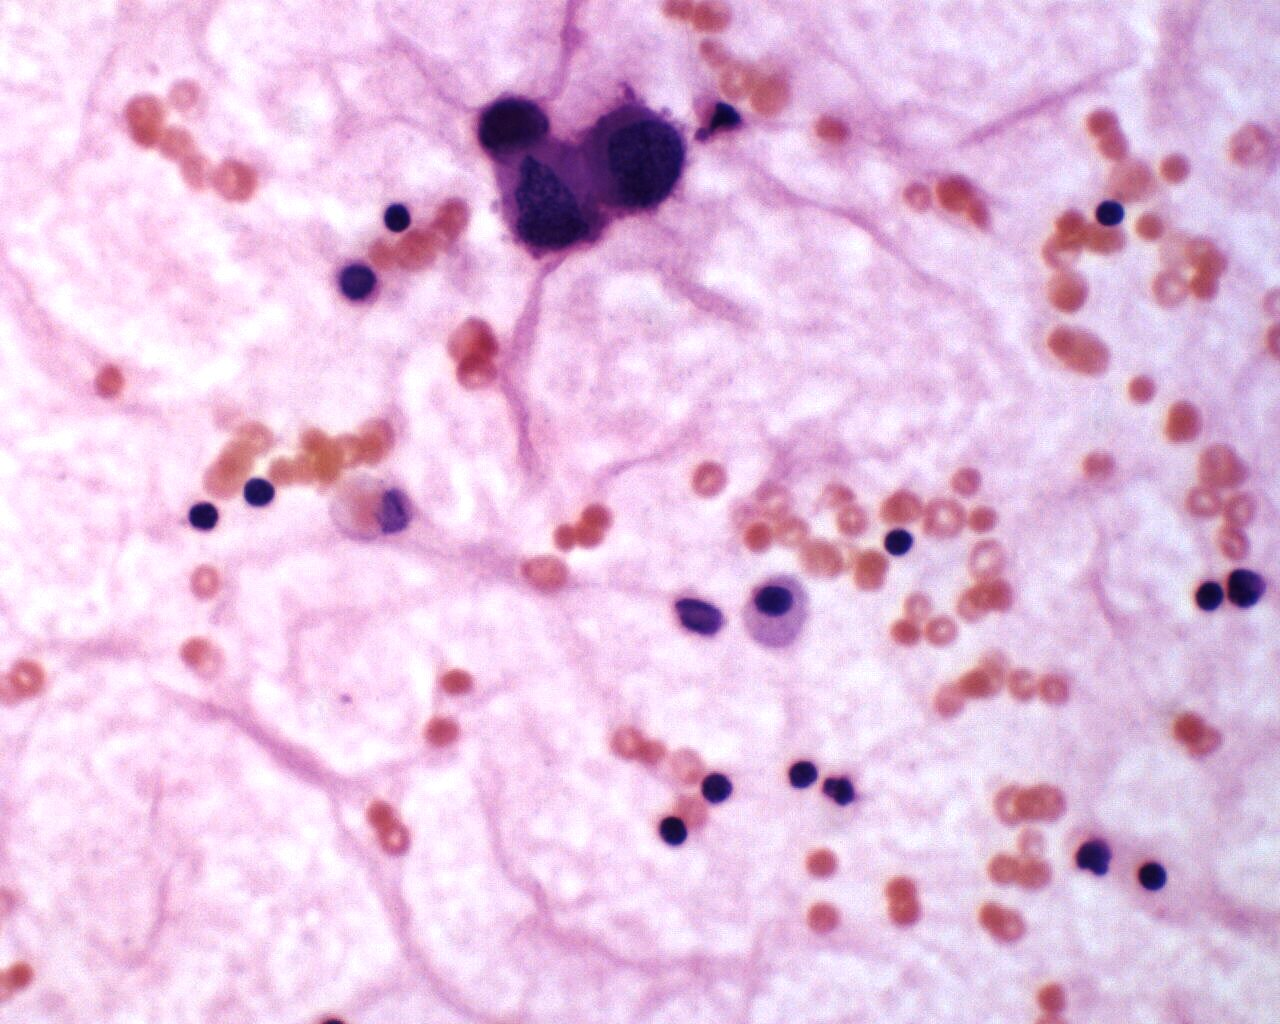ab: (579, 99, 691, 217)
lymph: (651, 807, 699, 858), (867, 521, 923, 565), (185, 492, 229, 543), (1088, 186, 1139, 229), (781, 752, 827, 797), (376, 192, 421, 236), (1188, 571, 1227, 621), (1133, 856, 1173, 899), (241, 474, 287, 512)
meso: (734, 566, 813, 649)
